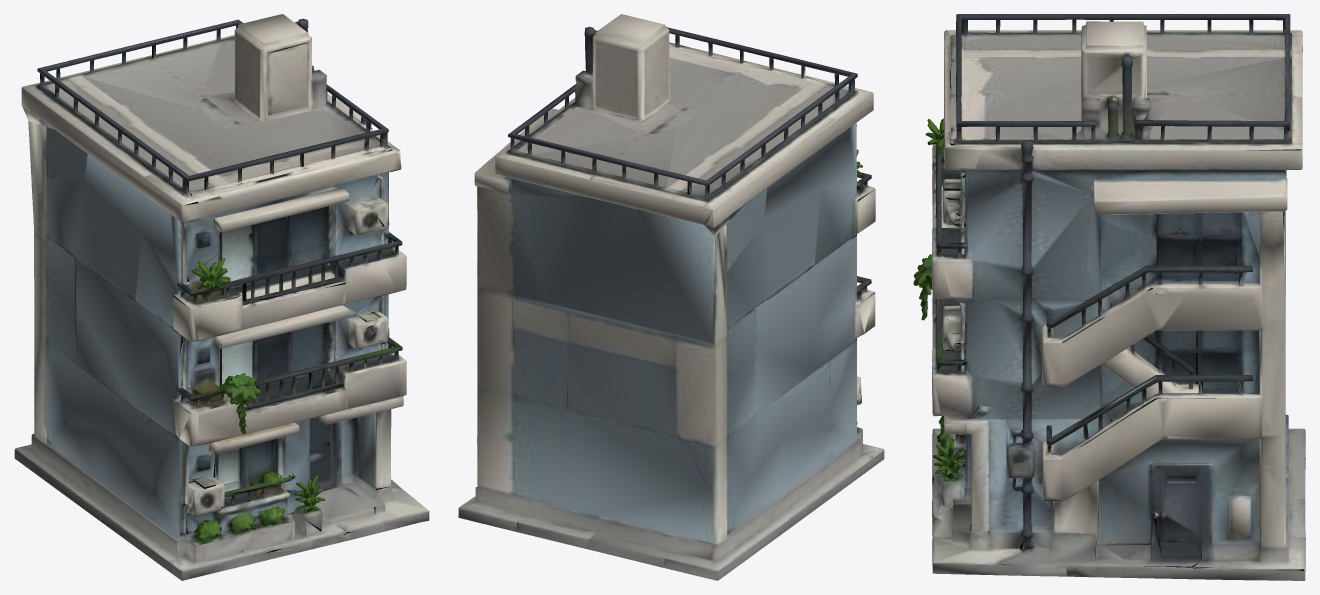
File: building26.glb
3 renders of one model, left to right at view 1: azimuth 30°, elevation 25°; view 2: azimuth 150°, elevation 25°; view 3: azimuth 270°, elevation 25°, orthographic. The views are drawn at different scales.
Parts seen in each view (by area): view 1: lo; view 2: lo; view 3: lo.
Part boxes in pixels (left/top/right/bottom): lo: left=14, top=14, right=429, bottom=580; lo: left=458, top=14, right=884, bottom=580; lo: left=913, top=14, right=1305, bottom=580.
Bounding box in the file's own units: 0.595 × 0.9794 × 0.6955.
1 material, 1 textured.
